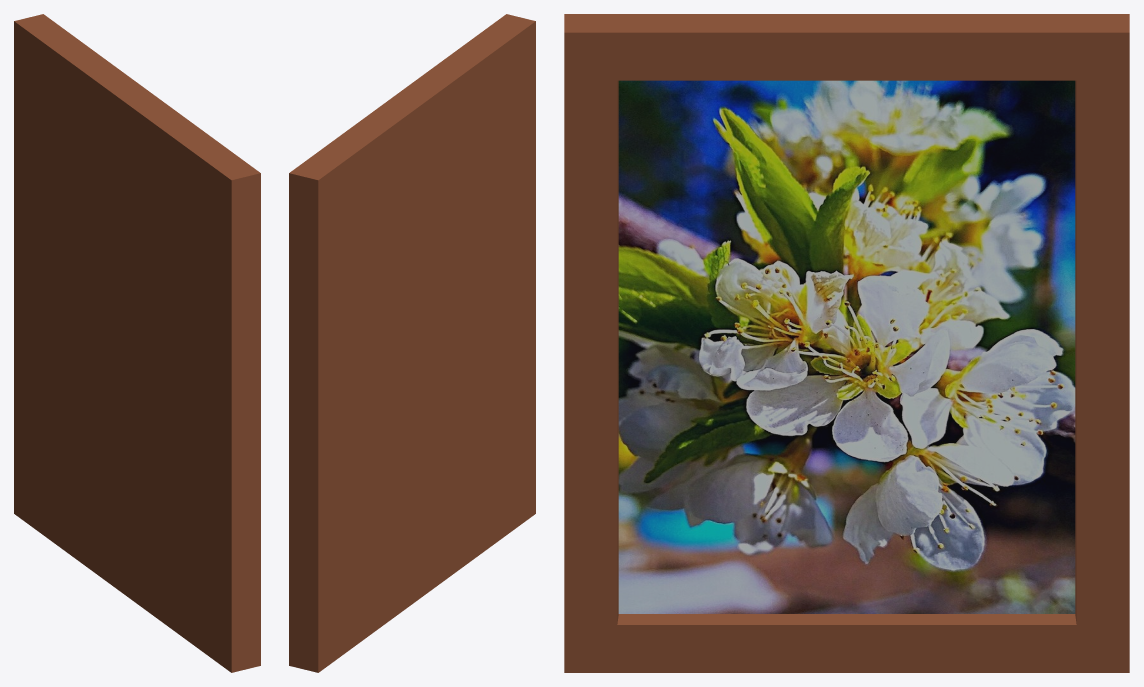
Rendered from Tableau.glb.
3 renders of one model, left to right at view 1: azimuth 30°, elevation 25°; view 2: azimuth 150°, elevation 25°; view 3: azimuth 270°, elevation 25°, orthographic. The views are drawn at different scales.
Parts seen in each view (by area): view 1: Tableau; view 2: Tableau; view 3: Tableau.
Part boxes in pixels (bbox=[...]): Tableau: bbox=[14, 14, 260, 672]; Tableau: bbox=[289, 14, 535, 672]; Tableau: bbox=[564, 14, 1129, 672].
Size of the model in its own units: 0.01 by 0.1604 by 0.1283.
1 material, 1 textured.
